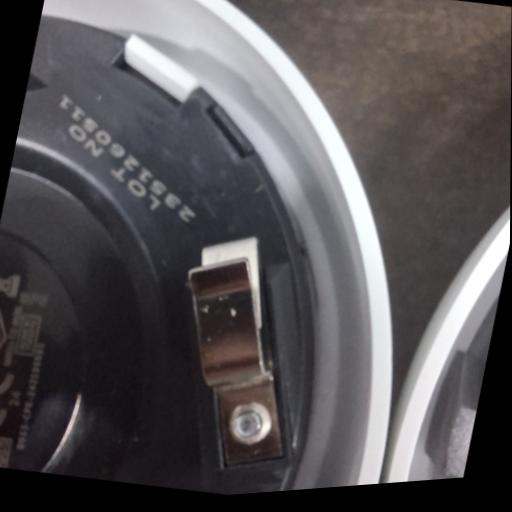yayli: (147, 227, 326, 482)
